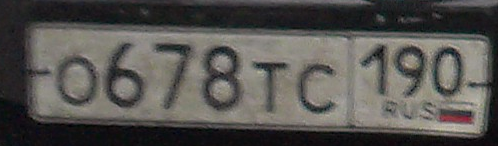character: (151, 33, 196, 112), (104, 33, 149, 111), (54, 53, 104, 113), (203, 43, 245, 114), (249, 51, 288, 120), (298, 57, 341, 118), (391, 39, 428, 102), (428, 41, 466, 100), (358, 40, 391, 94)
